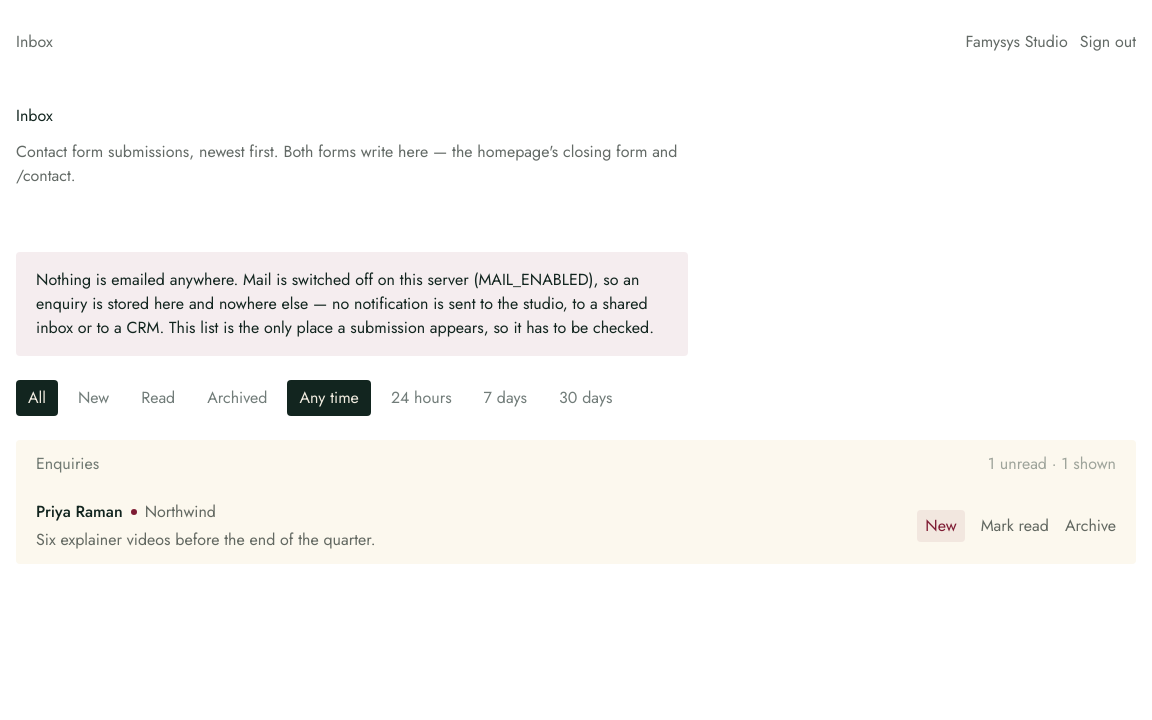
Scenario: InboxScreen › opens the full record, with every field the sender filled in, on click
Click the button "Priya Raman" at (79, 512), box top-left (36, 500), bottom-right (901, 552)
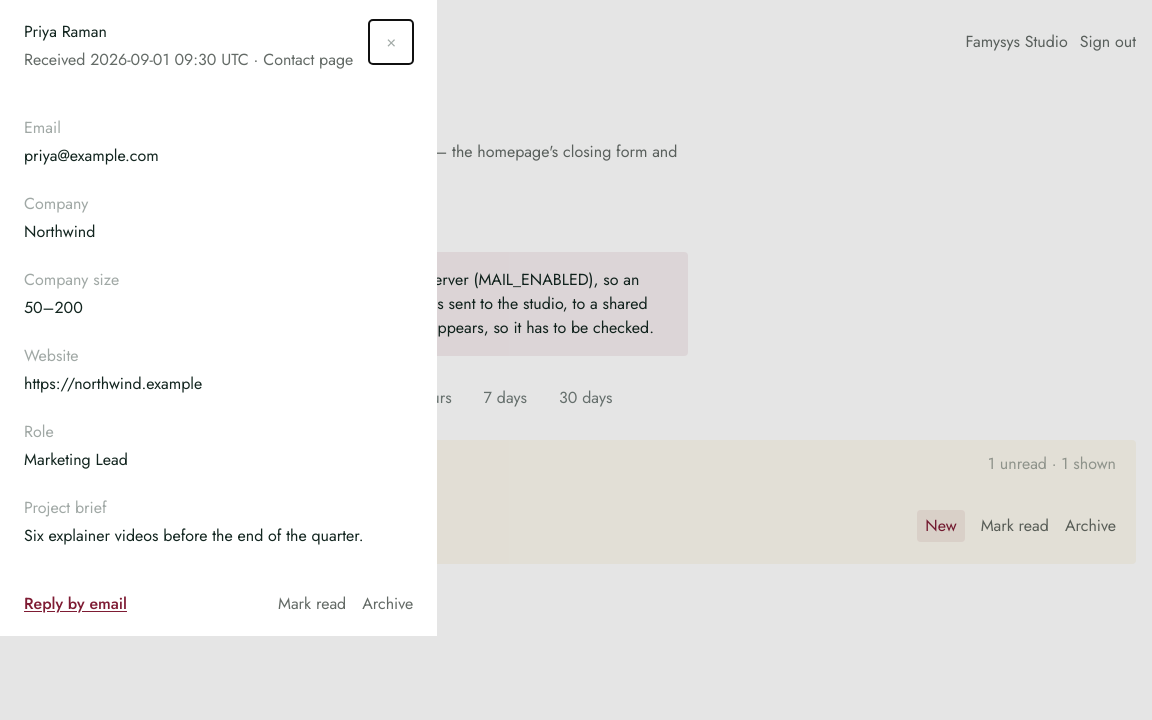
Result: the text "Northwind" is shown at top-left (24, 220), bottom-right (95, 243)
Result: the text "50–200" is shown at top-left (24, 296), bottom-right (83, 319)
Result: the text "https://northwind.example" is shown at top-left (24, 372), bottom-right (202, 395)
